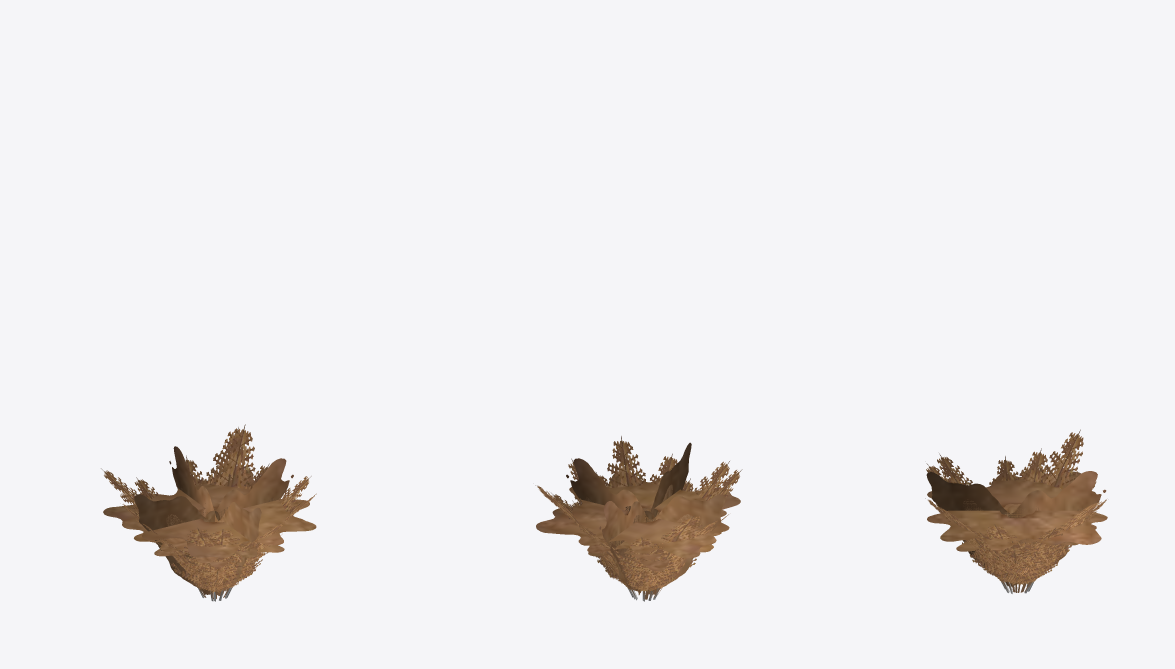
The model's file is plant-bracken.glb.
3 views of the same model, side by side, from view 1: azimuth 30°, elevation 25°; view 2: azimuth 150°, elevation 25°; view 3: azimuth 270°, elevation 25° (orthographic). The views are drawn at different scales.
Visible parts, largest first — view 1: impostor-0, lod0-leaves-0, lod0-leaves-1, impostor-1, lod0-leaves-2; view 2: impostor-0, lod0-leaves-0, impostor-1, lod0-leaves-1, lod0-leaves-2, impostor-2; view 3: impostor-0, lod0-leaves-0, lod0-leaves-2, lod0-leaves-1.
Part boxes in pixels (<box>): impostor-0: <box>103,446,316,595</box>; lod0-leaves-0: <box>101,424,316,598</box>; lod0-leaves-1: <box>135,479,303,599</box>; impostor-1: <box>134,488,275,595</box>; lod0-leaves-2: <box>154,497,283,596</box>; impostor-0: <box>536,442,740,594</box>; lod0-leaves-0: <box>535,436,742,598</box>; impostor-1: <box>585,484,726,594</box>; lod0-leaves-1: <box>572,472,724,599</box>; lod0-leaves-2: <box>565,496,683,599</box>; impostor-2: <box>588,525,710,592</box>; impostor-0: <box>926,471,1107,585</box>; lod0-leaves-0: <box>925,429,1106,592</box>; lod0-leaves-2: <box>965,537,1068,592</box>; lod0-leaves-1: <box>938,466,1096,592</box>.
Size of what is drawn, in the model's own units: 2.5 by 5 by 2.5.
5 materials, 4 textured.
